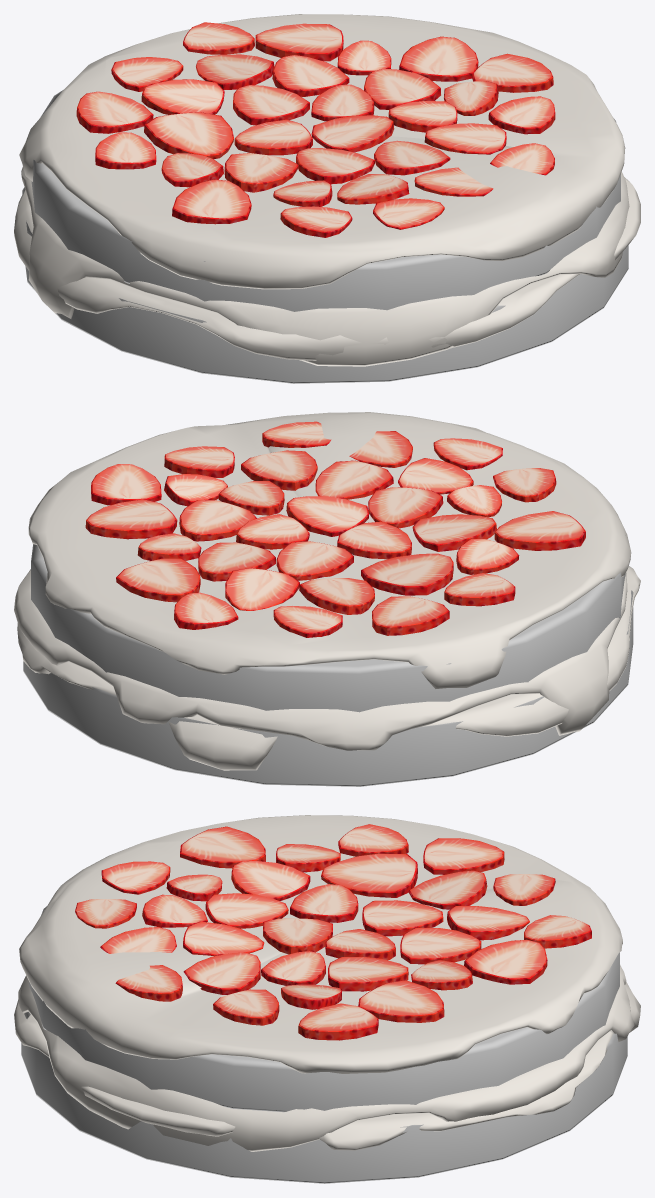
3 views of the same model, one above another, from view 1: azimuth 30°, elevation 25°; view 2: azimuth 150°, elevation 25°; view 3: azimuth 270°, elevation 25° (orthographic).
Visible parts, largest first — view 1: ichigo1_pPlane102; view 2: ichigo1_pPlane102; view 3: ichigo1_pPlane102.
Boxes of the visible parts, x1,y1,x2,y2 form: ichigo1_pPlane102: (14, 14, 640, 383); ichigo1_pPlane102: (14, 412, 640, 786); ichigo1_pPlane102: (14, 815, 640, 1183).
Size of the model in its own units: 31.28 by 7.55 by 31.07.
